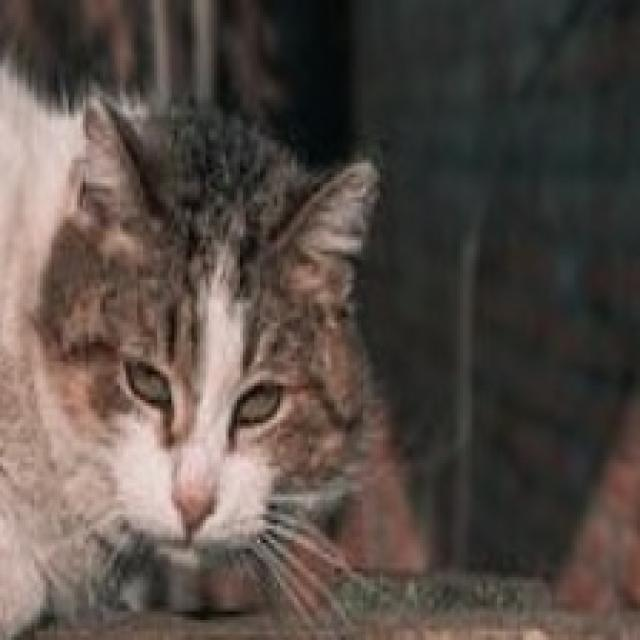Angry: (79, 297, 356, 584)
